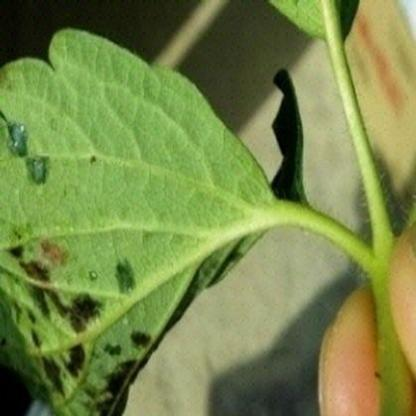Strawberry_Angular_LeafSpot: (0, 105, 253, 415)
